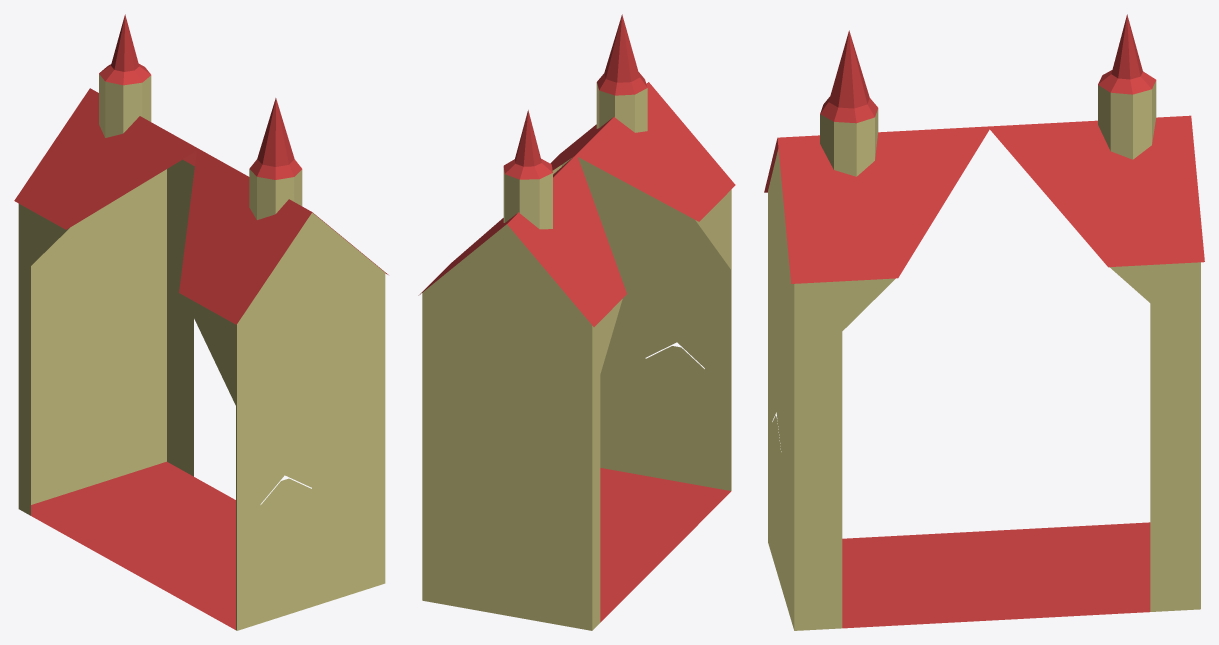
The picture shows the model from 3 angles, left to right: view 1: azimuth 30°, elevation 25°; view 2: azimuth 150°, elevation 25°; view 3: azimuth 270°, elevation 25°; orthographic projection. The views are drawn at different scales.
Size of the model in its own units: 18.62 by 30.63 by 42.5.
